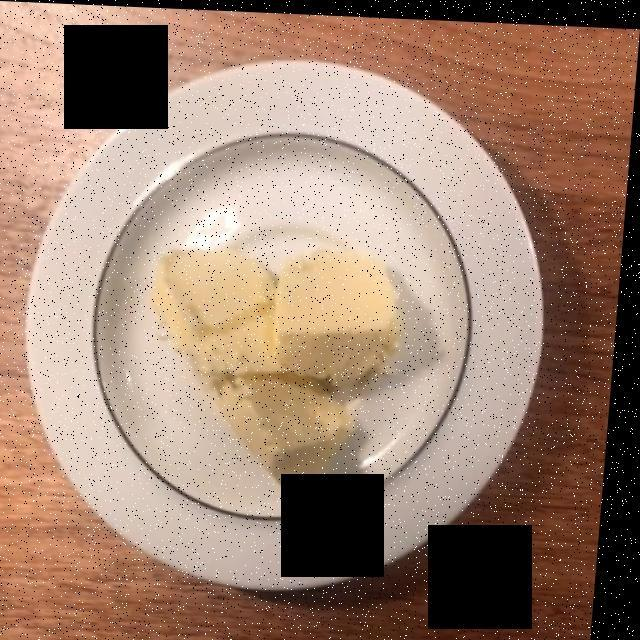butter: (161, 248, 410, 491)
